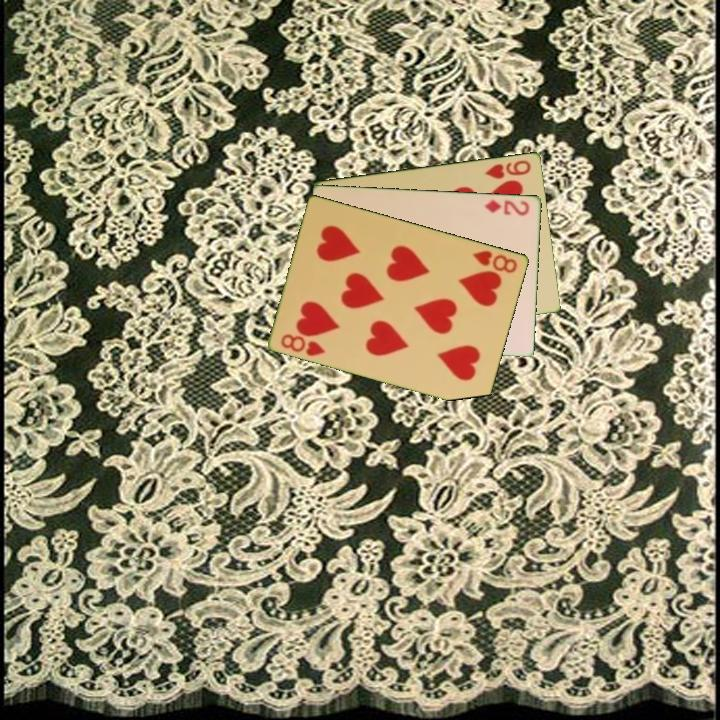2d: (482, 196, 533, 218)
8h: (469, 246, 520, 276), (278, 330, 329, 359)
9h: (481, 156, 534, 182)
